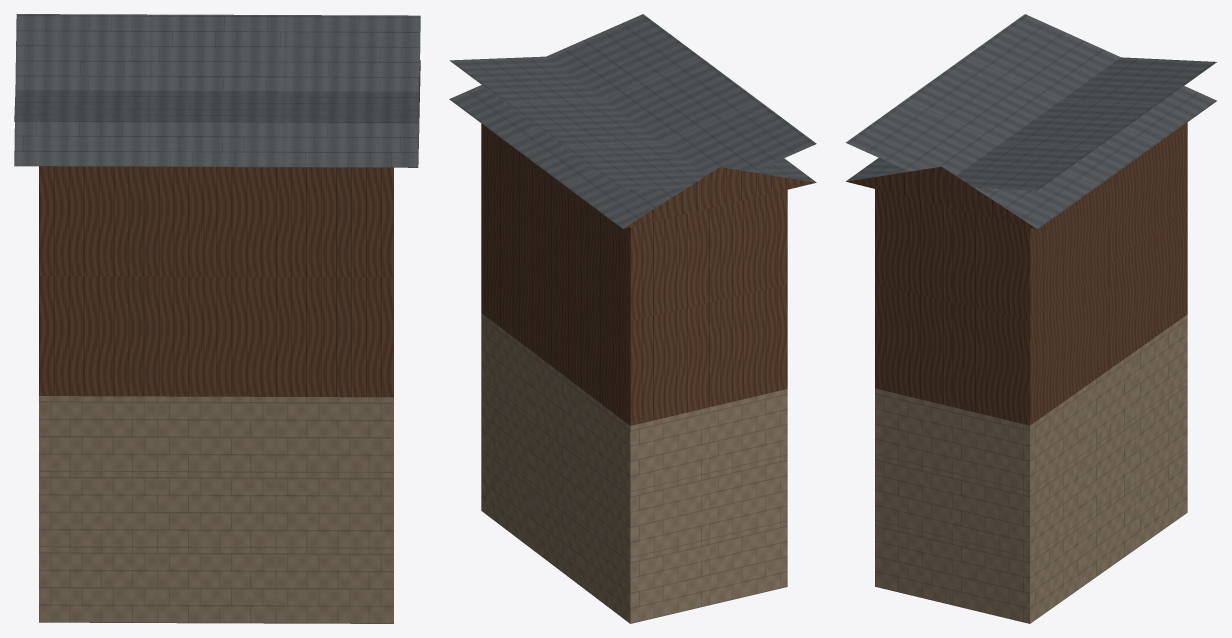
The model's file is bld_c2_-3_554.gltf.
3 views of the same model, side by side, from view 1: azimuth 30°, elevation 25°; view 2: azimuth 150°, elevation 25°; view 3: azimuth 270°, elevation 25° (orthographic). The views are drawn at different scales.
Parts seen in each view (by area): view 1: bld_c2_-3_554; view 2: bld_c2_-3_554; view 3: bld_c2_-3_554.
Part boxes in pixels (x1,y1,x2,y2): bld_c2_-3_554: (14,14,420,623); bld_c2_-3_554: (449,14,816,623); bld_c2_-3_554: (846,14,1217,623).
Bounding box in the file's own units: 9.75 × 11.5 × 8.67.
4 materials, 4 textured.
